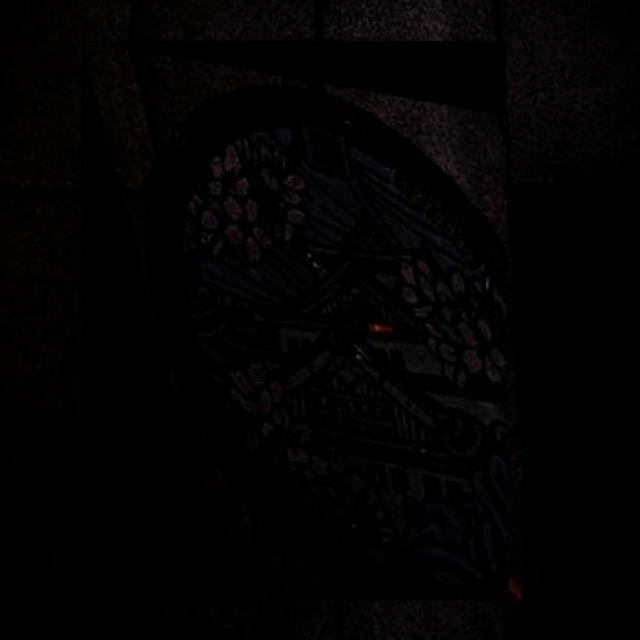Manhole: (81, 40, 506, 600)
